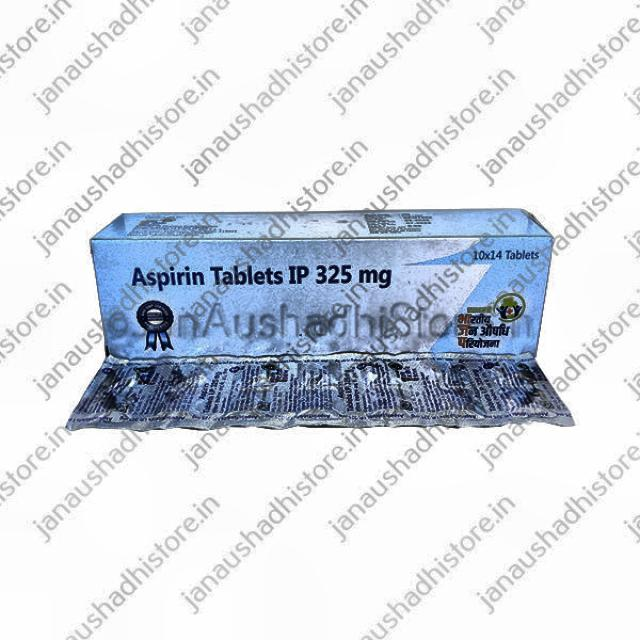Aspirin: (90, 242, 544, 364)
